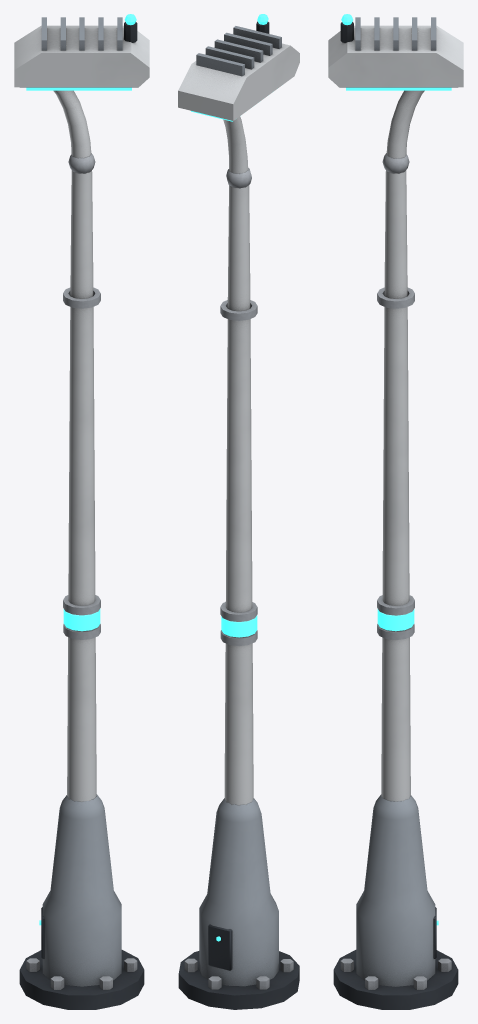
The model's file is farola_residencial.fbx.
3 views of the same model, side by side, from view 1: azimuth 90°, elevation 25°; view 2: azimuth 150°, elevation 25°; view 3: azimuth 270°, elevation 25° (orthographic).
Parts seen in each view (by area): view 1: farola_residencial, farola_residencial_neon; view 2: farola_residencial, farola_residencial_neon; view 3: farola_residencial, farola_residencial_neon.
Boxes of the visible parts, box(x1,y1,x2,y2) form: farola_residencial: box(14, 17, 149, 1009); farola_residencial_neon: box(26, 14, 136, 925); farola_residencial: box(178, 21, 299, 1009); farola_residencial_neon: box(191, 14, 268, 941); farola_residencial: box(328, 17, 463, 1009); farola_residencial_neon: box(341, 14, 451, 925).
Bounding box in the file's own units: 0.8969 × 7.9 × 1.
2 materials, 2 textured.
